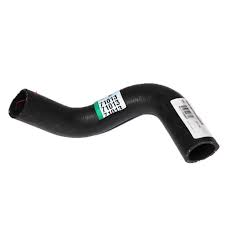radiator_hose: (10, 83, 219, 163)
